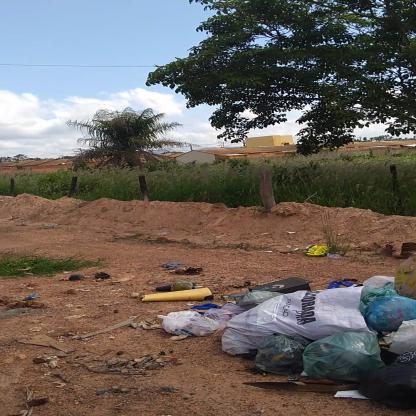lixo: (140, 278, 415, 415)
